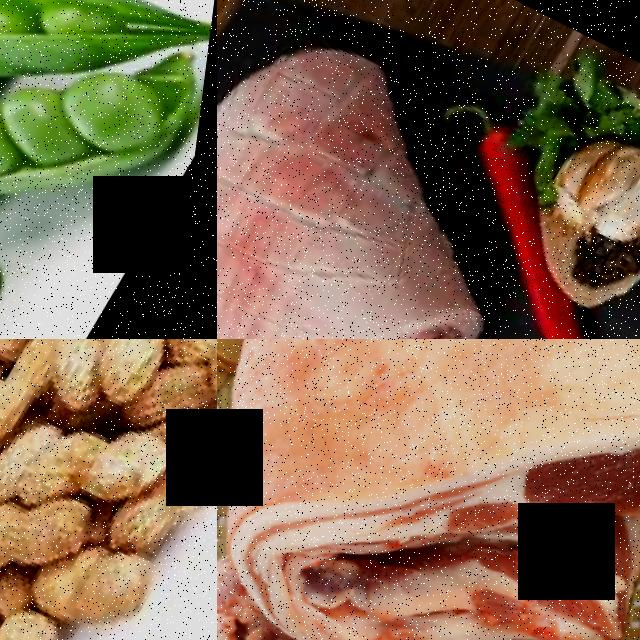peanuts: (32, 393, 190, 529), (56, 531, 176, 637), (0, 476, 107, 594), (139, 430, 217, 550), (80, 339, 217, 407), (0, 343, 60, 469)
peas: (0, 0, 217, 294)
pork belly: (217, 339, 640, 640), (217, 180, 528, 339), (217, 527, 587, 640)
